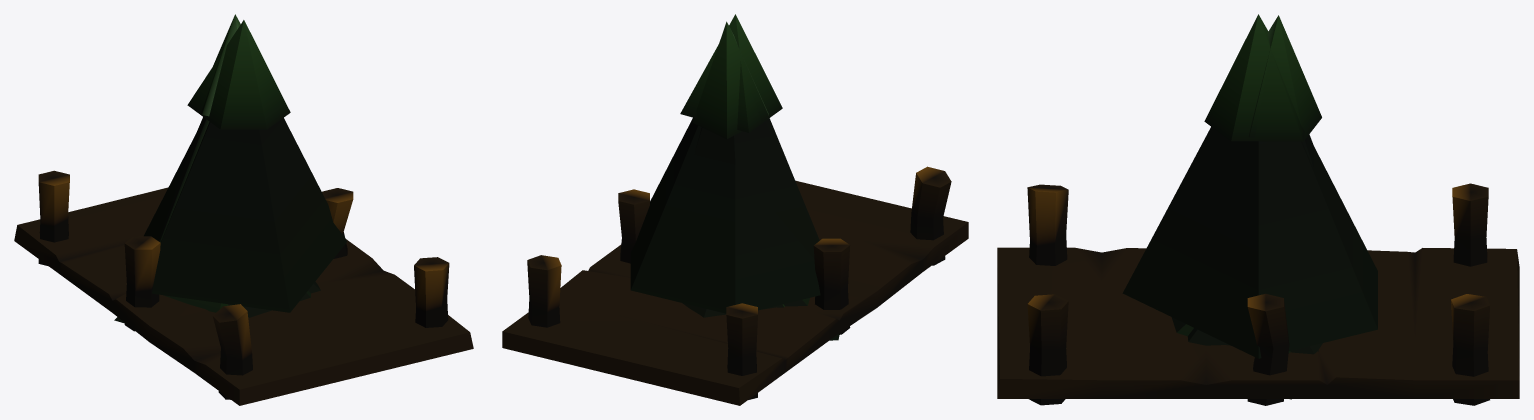
The model's file is outdoors.fbx.
3 views of the same model, side by side, from view 1: azimuth 30°, elevation 25°; view 2: azimuth 150°, elevation 25°; view 3: azimuth 270°, elevation 25° (orthographic). The views are drawn at different scales.
Visible parts, largest first — view 1: pier1, tree_01, tree_02; view 2: pier1, tree_01, tree_02; view 3: pier1, tree_01, tree_02.
Part boxes in pixels (<box>): pier1: <box>14,170,473,405</box>; tree_01: <box>144,20,346,312</box>; tree_02: <box>114,14,310,323</box>; pier1: <box>502,166,968,405</box>; tree_01: <box>630,14,820,317</box>; tree_02: <box>692,21,839,340</box>; pier1: <box>997,183,1519,405</box>; tree_01: <box>1122,14,1377,358</box>; tree_02: <box>1171,15,1321,399</box>.
Bounding box in the file's own units: 302 × 347 × 500.
